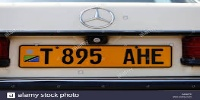T: (39, 46, 54, 66)
